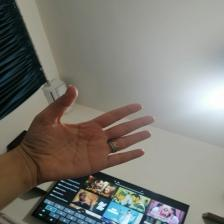two: (26, 86, 159, 176)
